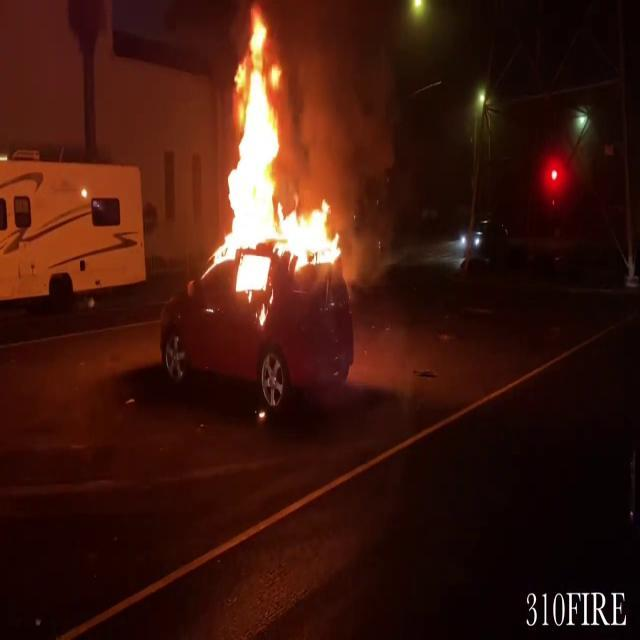Fire: (209, 2, 287, 280), (274, 188, 342, 266)
Smoke: (283, 0, 402, 212)
